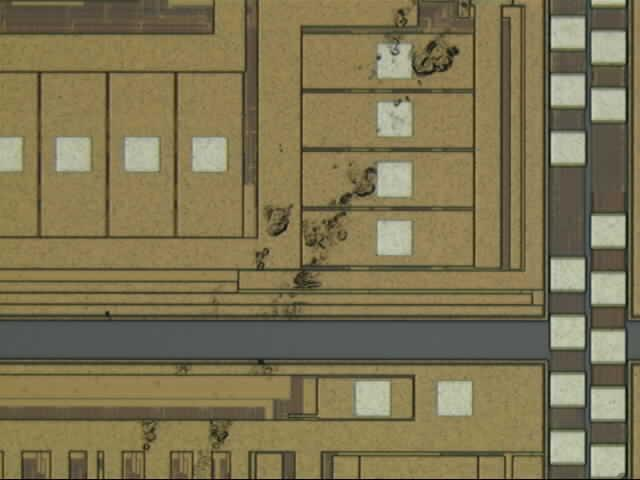SCRATCH: (85, 1, 504, 480)
